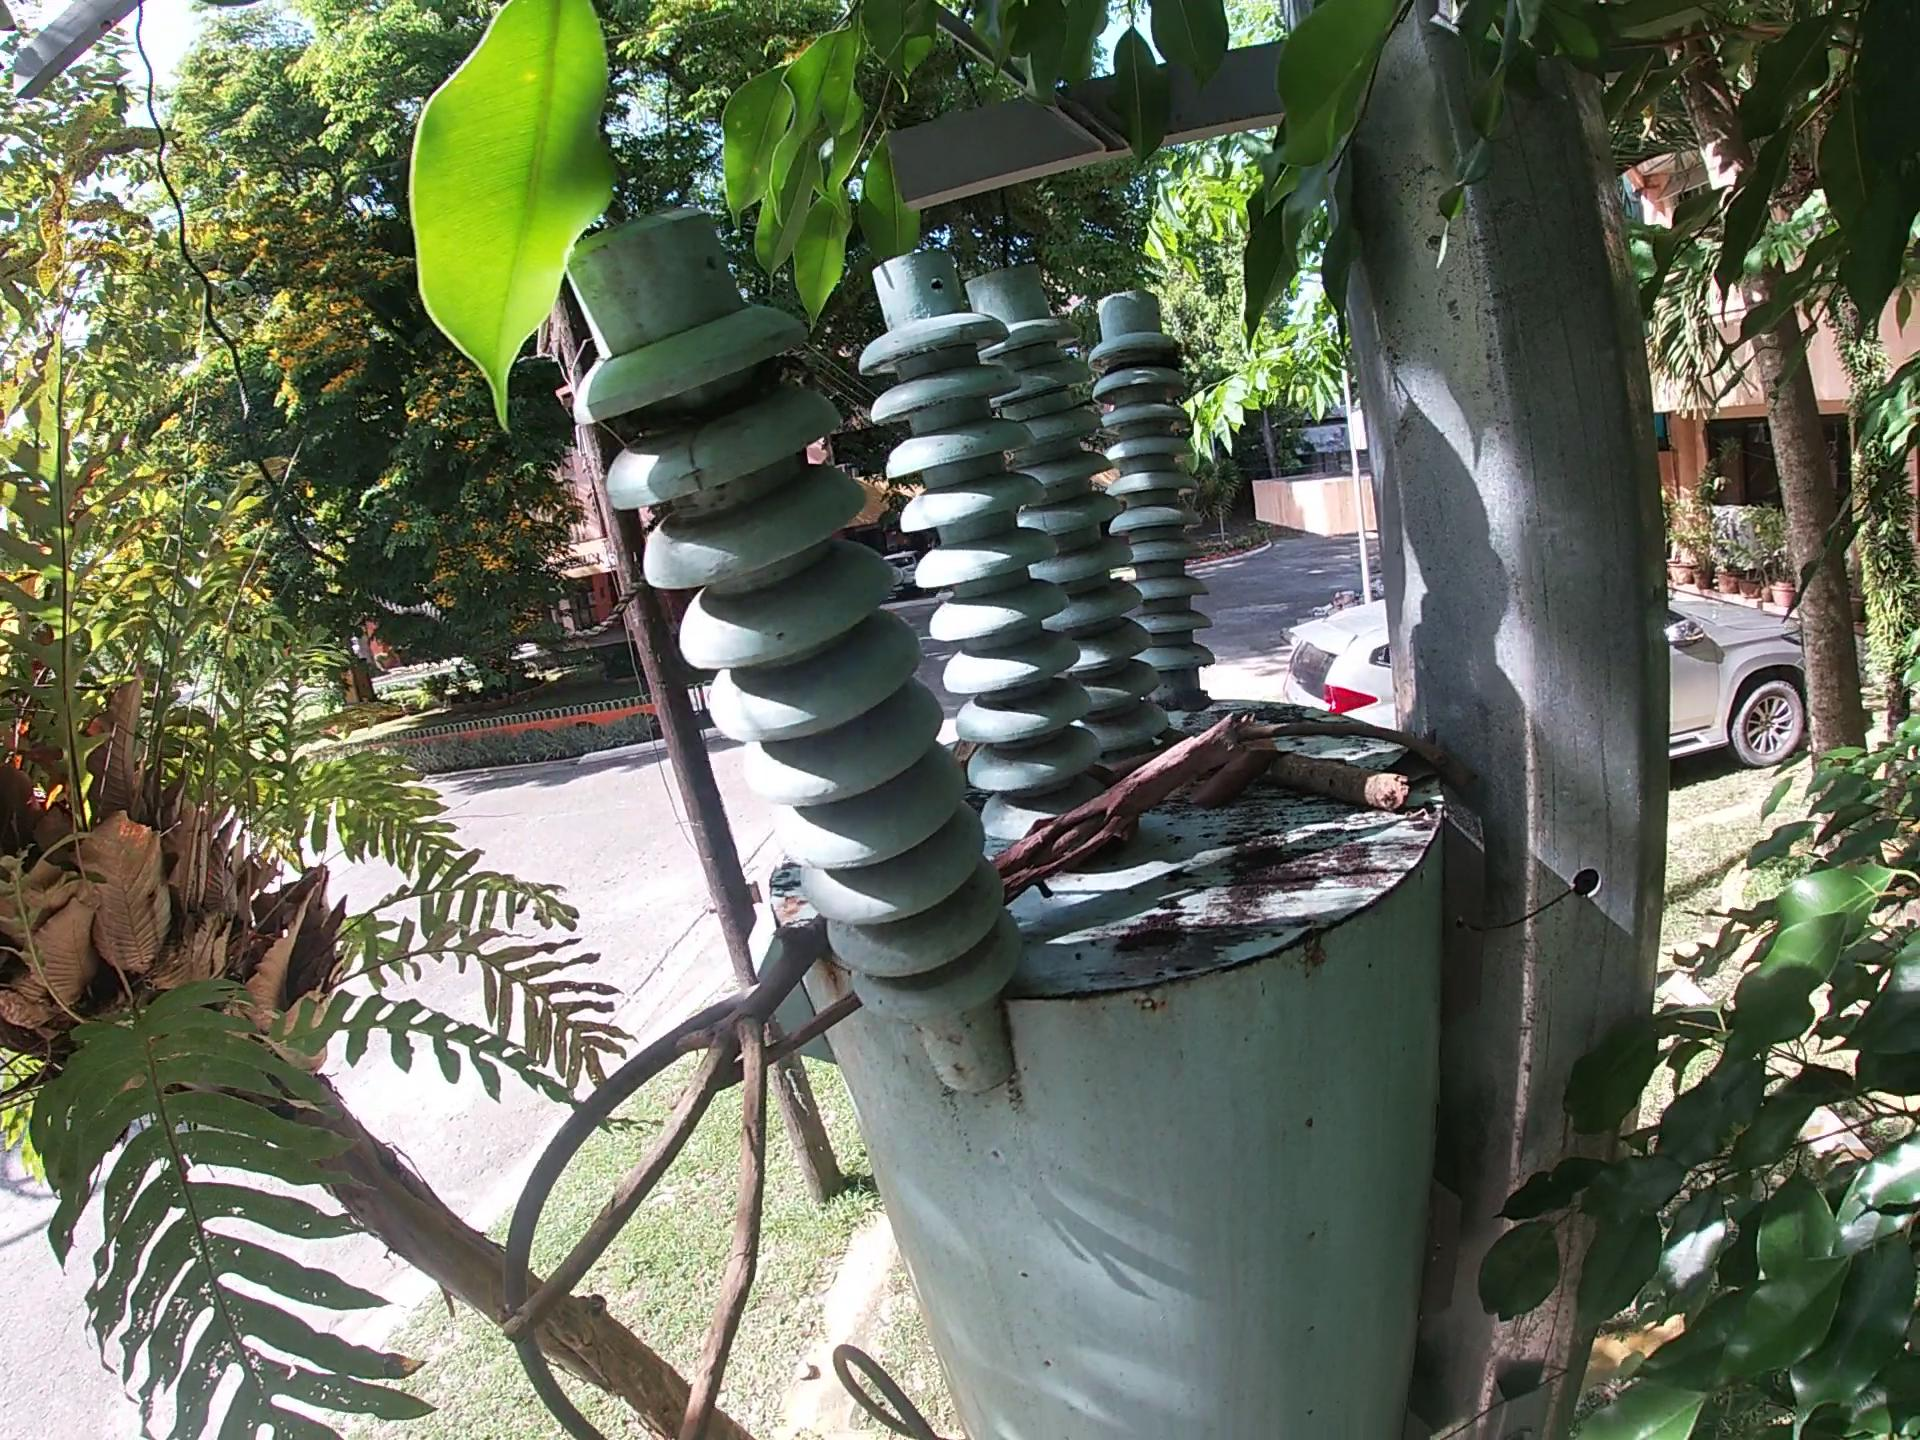leaf: (1188, 746, 1290, 812), (1389, 725, 1444, 787)
tree branch: (494, 914, 838, 1435), (992, 709, 1249, 905), (1108, 703, 1479, 808), (1158, 718, 1417, 815), (694, 992, 871, 1100)
